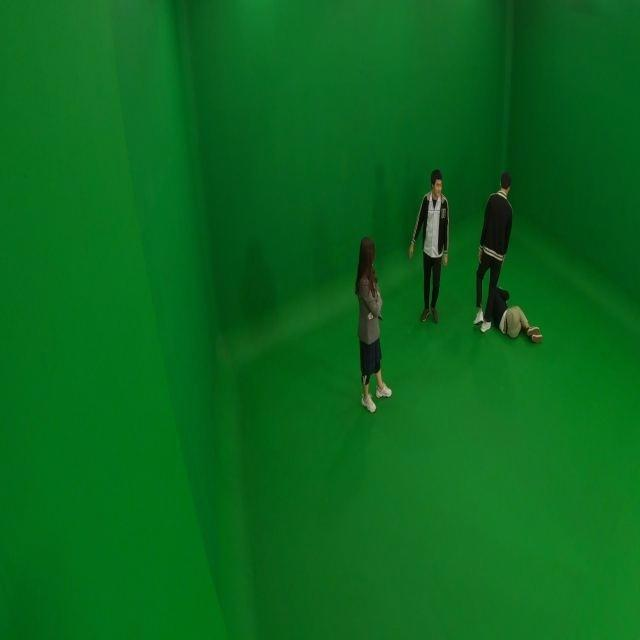fight: (475, 171, 547, 345)
non-fight: (354, 240, 390, 413), (411, 167, 451, 322)
